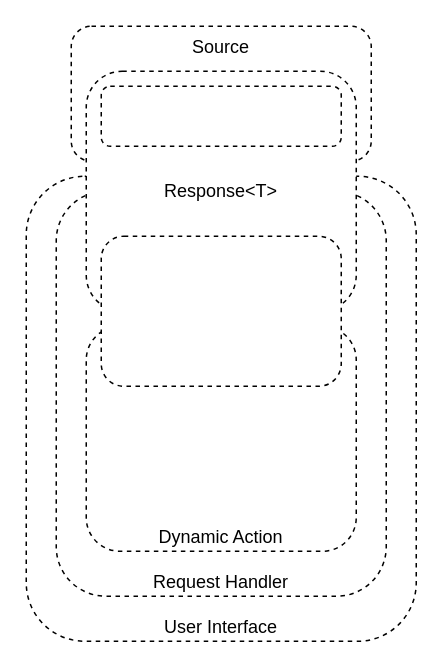
Image size: 443x668. Some labels were removed from this diagram. Each missing label, with the centre of its shape:
Task: the point at 220,115
TaskCompletionSource: the point at 220,310
